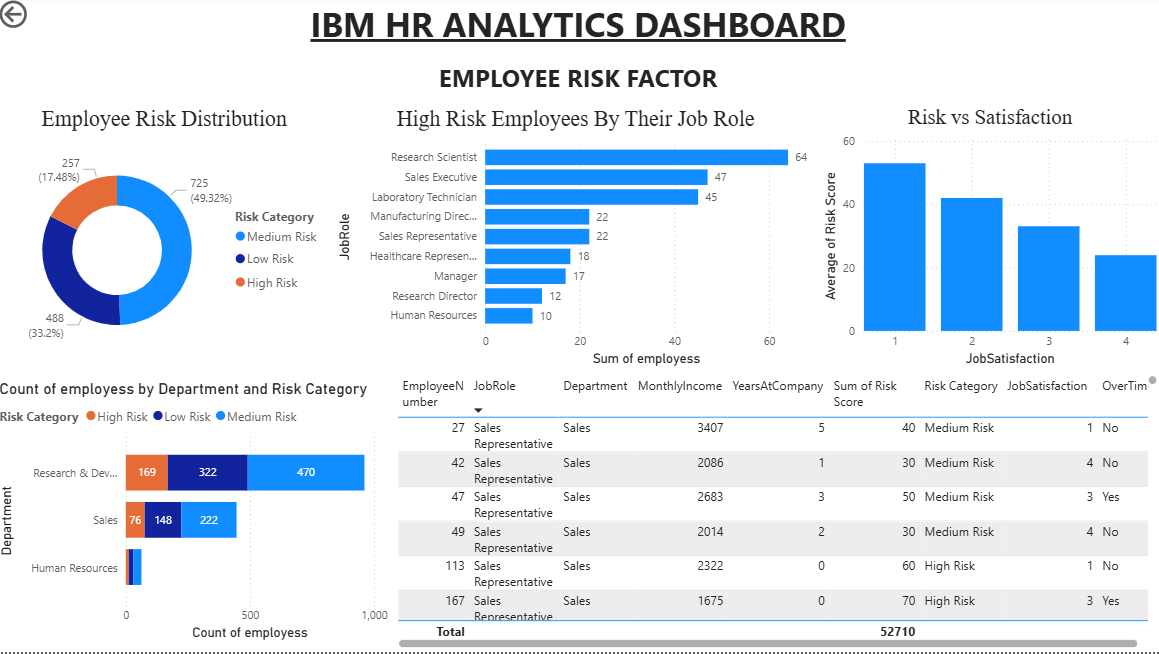

The page's visual inventory and layout, read from the dashboard file:
{"tool":"powerbi","page":{"name":"Page 3","canvas":[1280,720],"ordinal":2},"visuals":[{"type":"donutChart","title":"Employee Risk Distribution","fields":{"Y":["Sum(Employee.employess)"],"Category":["Employee.Risk Category"]},"box":[0,120.4,371.5,290.7],"z":0},{"type":"barChart","fields":{"Category":["Employee.Department"],"Series":["Employee.Risk Category"],"Y":["CountNonNull(Employee.employess)"]},"box":[0,421.3,436.4,290.9],"z":1000},{"type":"textbox","box":[0,0,1280.3,65.9],"z":2000},{"type":"textbox","box":[0,65.9,1280.3,54.9],"z":3000},{"type":"barChart","title":"High Risk Employees By Their  Job  Role","fields":{"Category":["Employee.JobRole"],"Y":["Sum(Employee.employess)"]},"box":[370.5,120.8,533.8,290.9],"z":4000},{"type":"actionButton","box":[0,0,100,40],"z":5000},{"type":"clusteredColumnChart","title":"Risk vs Satisfaction","fields":{"Y":["Avg(Employee.Risk Score)"],"Category":["Employee.JobSatisfaction"]},"box":[904.3,120.8,376,290.9],"z":6000},{"type":"tableEx","fields":{"Values":["Employee.EmployeeNumber","Employee.Risk Score","Employee.JobRole","Employee.Department","Employee.MonthlyIncome","Employee.YearsAtCompany","Employee.Risk Category","Employee.JobSatisfaction","Employee.OverTime"]},"box":[436.4,411.7,843.9,308.7],"z":7000}]}

Visuals, with their boxes in screenshot pixels (x1, y1, x2, y2), scaled from the page's 1280x720 canvas onto the 1159x654 screenshot:
"Employee Risk Distribution" donutChart: l=0, t=109, r=336, b=373
barChart - Employee.Department x Employee.Risk Category: l=0, t=383, r=395, b=647
textbox: l=0, t=0, r=1158, b=60
textbox: l=0, t=60, r=1158, b=110
"High Risk Employees By Their  Job  Role" barChart: l=335, t=110, r=819, b=374
actionButton: l=0, t=0, r=91, b=36
"Risk vs Satisfaction" clusteredColumnChart: l=819, t=110, r=1158, b=374
tableEx - Employee.EmployeeNumber x Employee.Risk Score: l=395, t=374, r=1158, b=653
